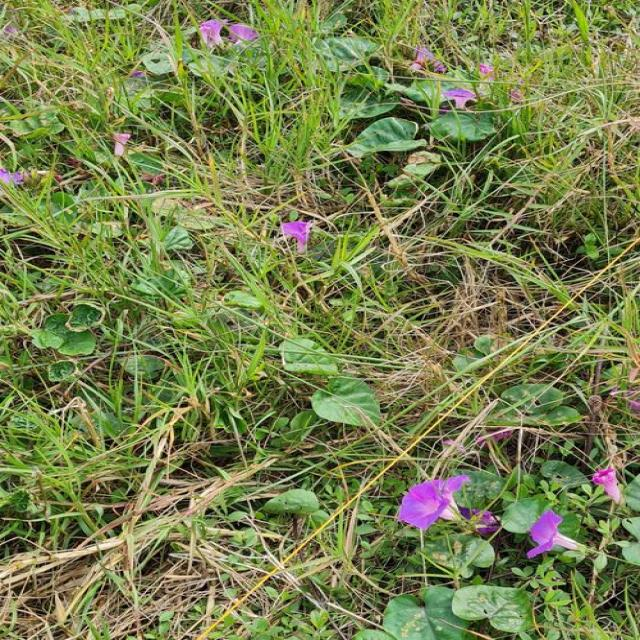ipomoea: (392, 472, 476, 535), (520, 508, 582, 561), (191, 16, 261, 54), (585, 463, 626, 508), (275, 218, 316, 256)
